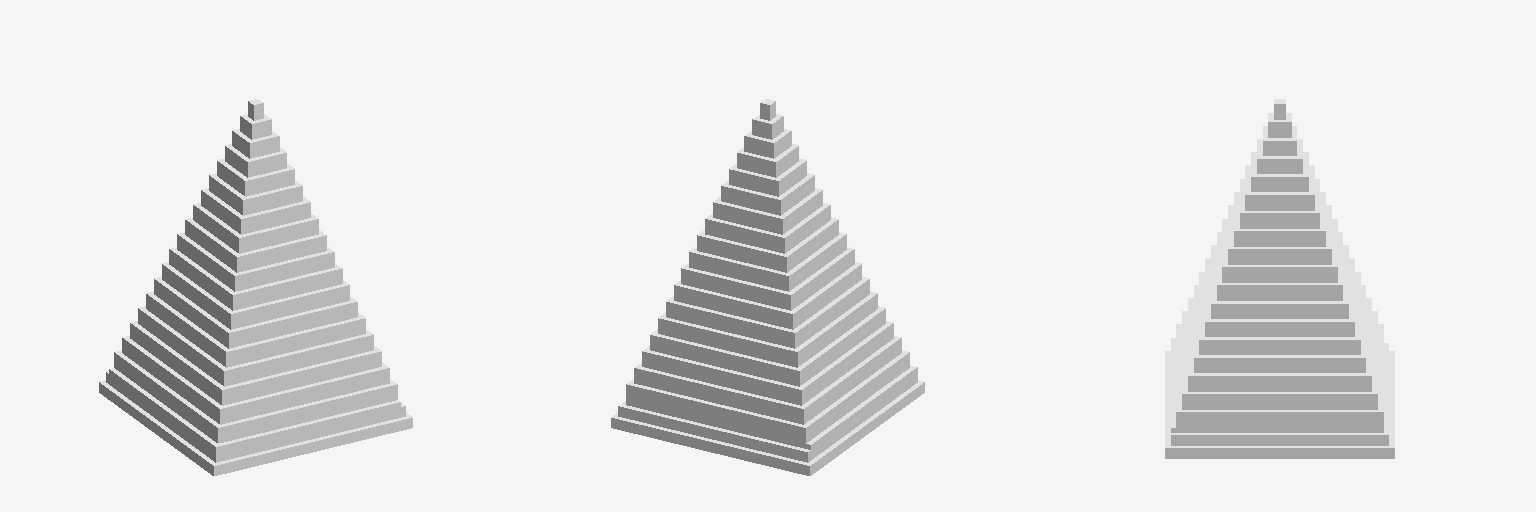
Rendered from tree-1-tree.obj.
3 renders of one model, left to right at view 1: azimuth 30°, elevation 25°; view 2: azimuth 150°, elevation 25°; view 3: azimuth 270°, elevation 25°, orthographic.
Parts seen in each view (by area): view 1: tree; view 2: tree; view 3: tree.
Boxes of the visible parts, x1=… form: tree: x1=99, y1=99, x2=412, y2=475; tree: x1=611, y1=99, x2=924, y2=475; tree: x1=1165, y1=99, x2=1394, y2=458.
Bounding box in the file's own units: 4 × 5.9 × 4.